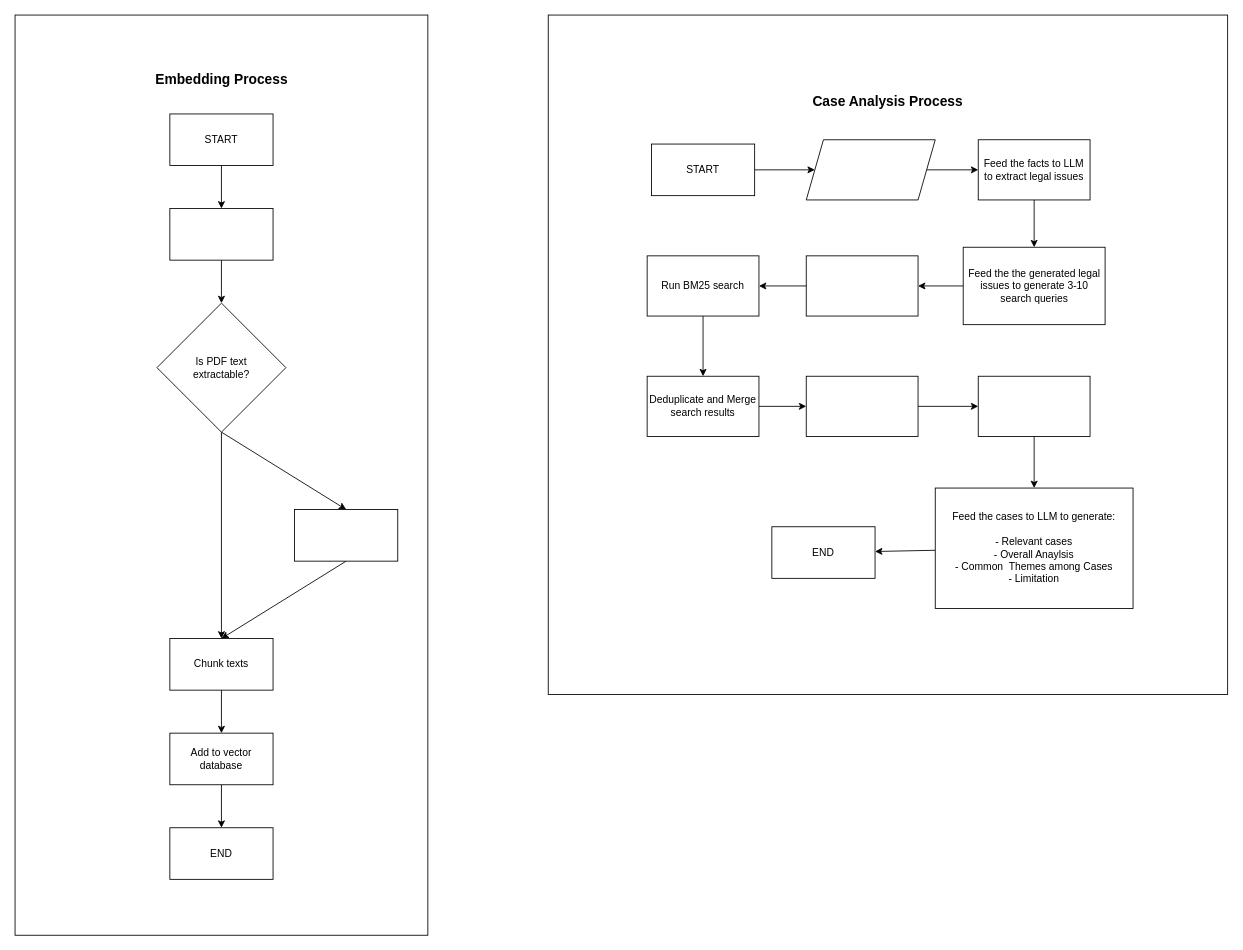
Image size: 1243x950. Some labels were removed from this diagram. Each missing label, with the box of its shape:
Extract text from PDF: (169, 208, 273, 260)
Get case facts from the user: (805, 139, 935, 200)
Re-rank resu l ts: (805, 375, 918, 436)
Retrieve top 10 cases: (977, 375, 1090, 436)
Run vector search: (805, 255, 918, 316)
Use EasyOCR for text extraction: (294, 509, 398, 561)
